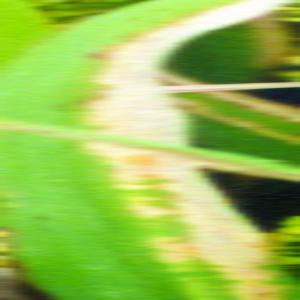2 BacterialBlight: (3, 43, 182, 280)
